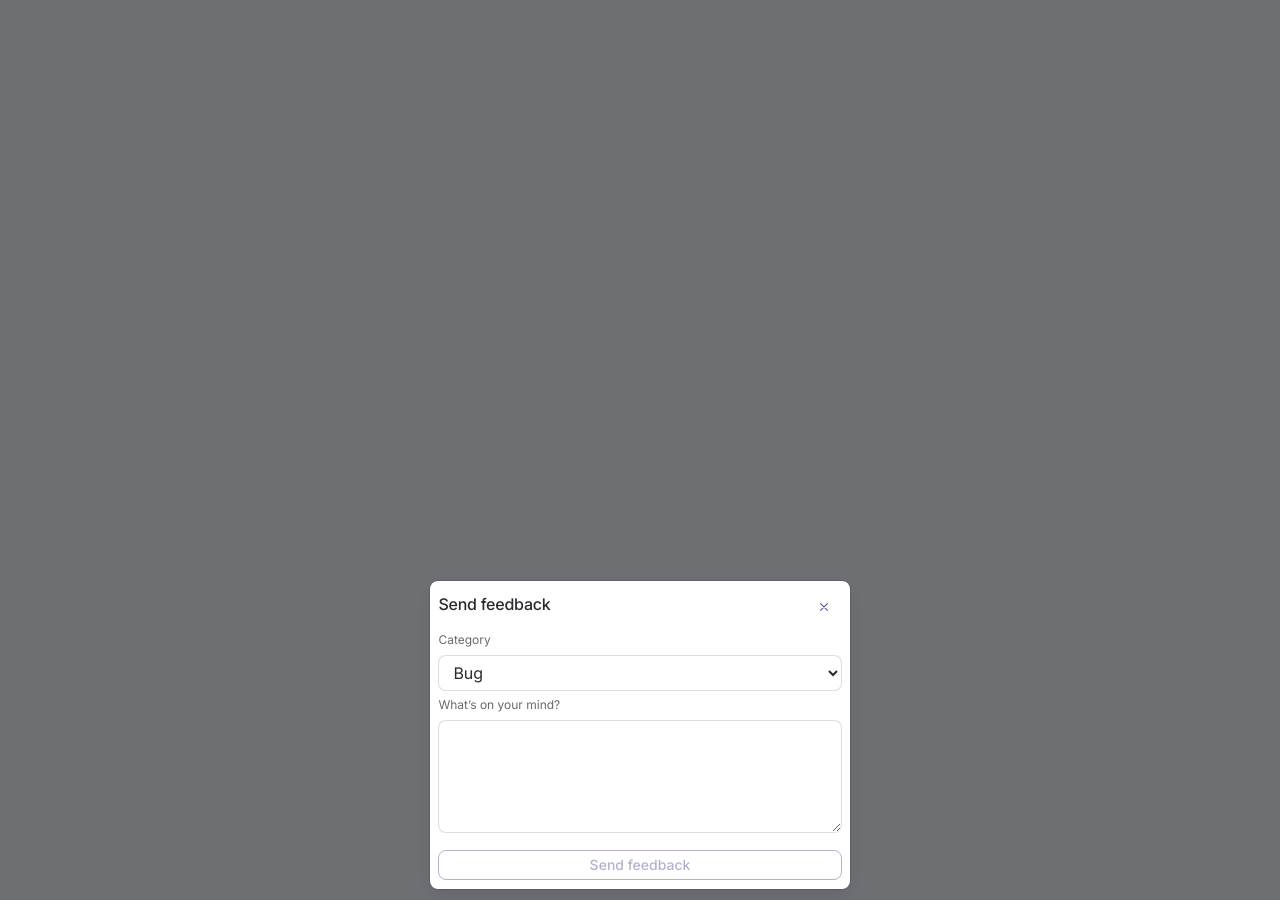
Test: FeedbackModal › shows a generic error and preserves the draft on other failures
Type "it broke" into the text box with test id "feedback-description" at (640,776), box top-left (438, 720), bottom-right (842, 833)
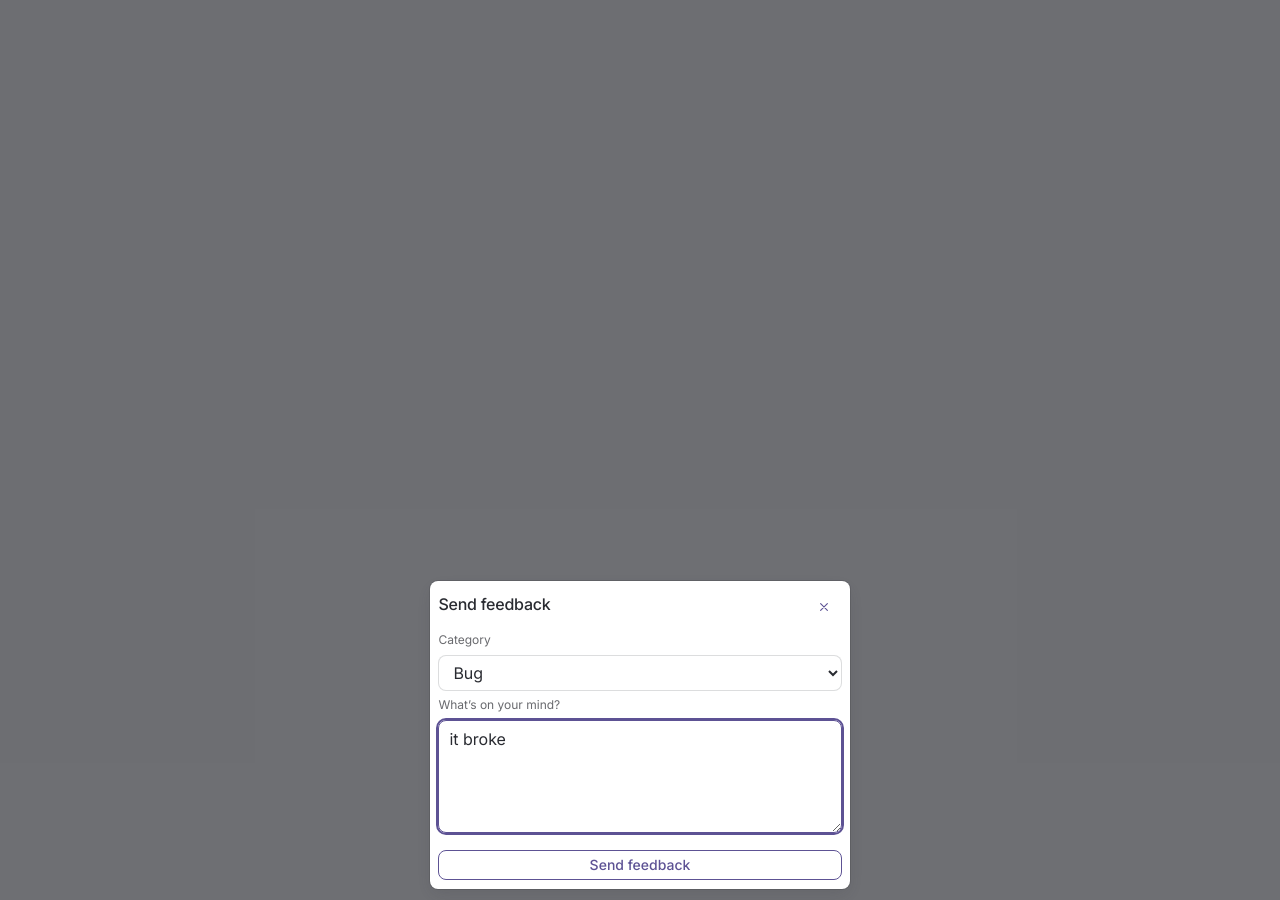
Click the button with test id "feedback-submit" at (640,865), box top-left (438, 850), bottom-right (842, 880)
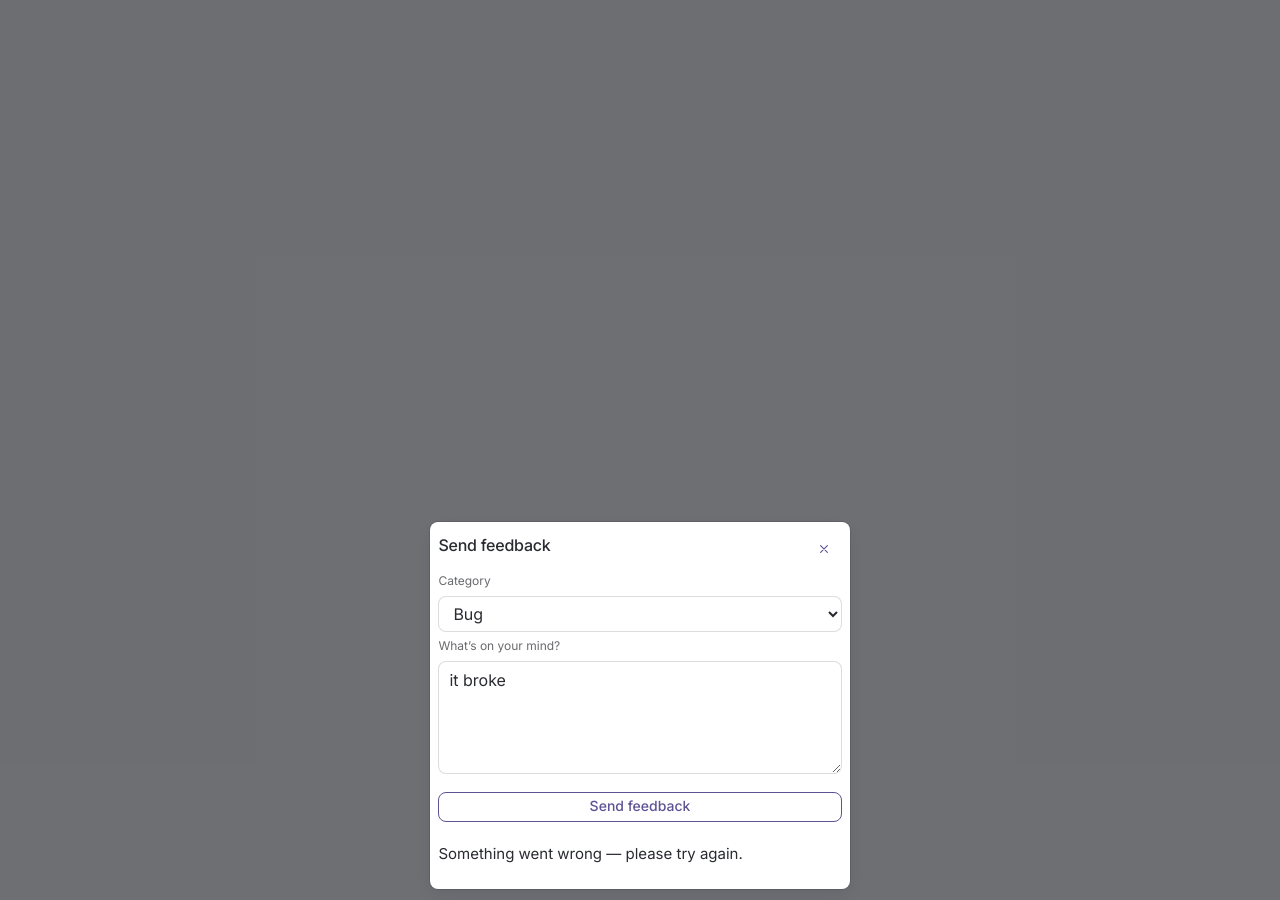
expect the message with test id "feedback-error" shows "Something went wrong": met, box top-left (438, 844), bottom-right (743, 863)
